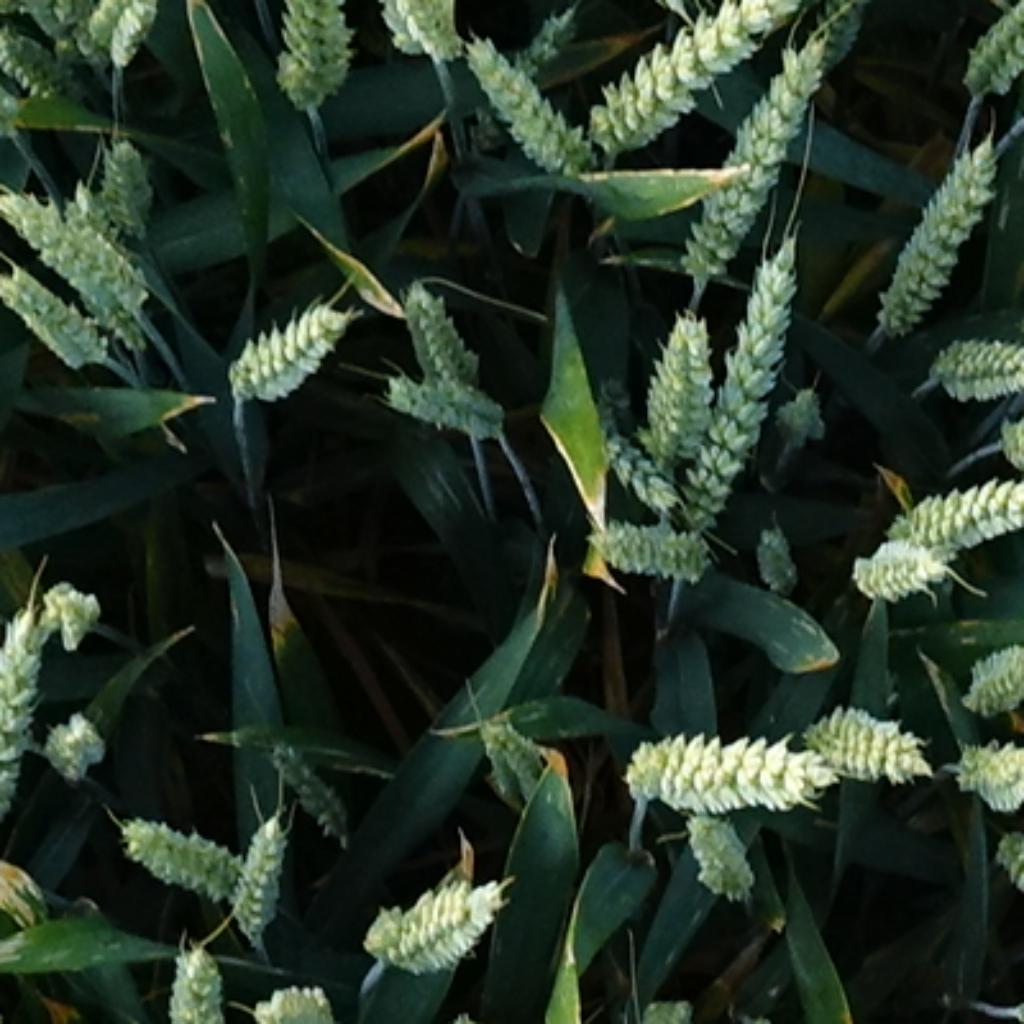0-0: (675, 208, 809, 526), (673, 28, 836, 266), (563, 2, 798, 163), (865, 133, 1008, 327), (606, 714, 839, 811), (453, 20, 596, 176), (1, 187, 155, 326), (351, 868, 507, 986), (220, 281, 358, 399), (862, 465, 1024, 565), (636, 302, 729, 471), (793, 688, 929, 778), (378, 348, 514, 430), (2, 586, 48, 821), (391, 271, 486, 384), (0, 270, 100, 375), (263, 2, 358, 107), (581, 517, 719, 588), (847, 517, 960, 596), (129, 817, 245, 893), (601, 422, 688, 522), (264, 742, 336, 856), (230, 806, 296, 929), (69, 192, 151, 289), (678, 796, 762, 890), (156, 931, 238, 1024), (71, 2, 166, 81), (471, 696, 555, 785), (2, 38, 92, 120), (926, 322, 1024, 394), (957, 2, 1024, 102), (90, 141, 156, 236), (950, 733, 1024, 807), (376, 2, 471, 58), (35, 582, 112, 651), (957, 629, 1024, 706), (253, 967, 343, 1024), (33, 2, 102, 71), (43, 712, 109, 784), (519, 6, 580, 81), (764, 522, 818, 591), (807, 3, 859, 71), (779, 390, 830, 451), (989, 816, 1024, 888), (588, 379, 631, 420), (633, 996, 686, 1024)
